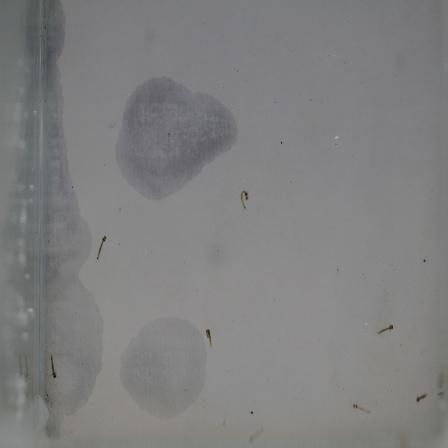Jentik-Nyamuk: (46, 348, 66, 386), (93, 231, 111, 266), (349, 400, 373, 423), (237, 183, 253, 217), (374, 319, 399, 340), (199, 326, 217, 353), (413, 387, 433, 409)
